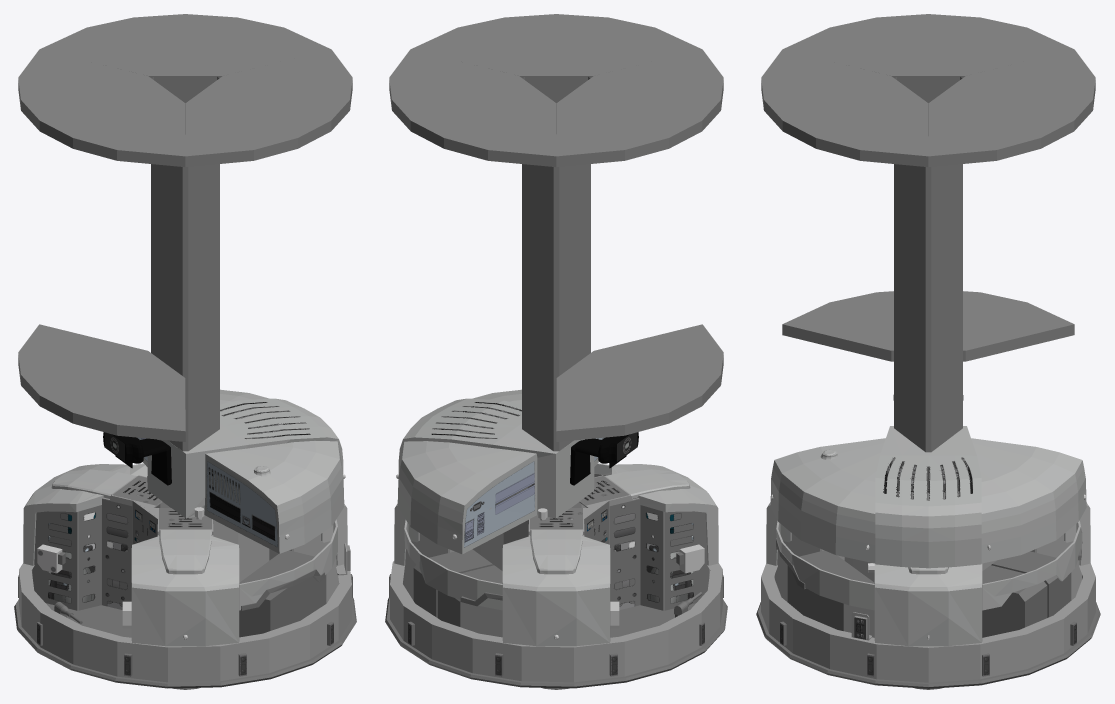
File: robotino3.dae
The picture shows the model from 3 angles, left to right: view 1: azimuth 30°, elevation 25°; view 2: azimuth 150°, elevation 25°; view 3: azimuth 270°, elevation 25°; orthographic projection.
Parts seen in each view (by area): view 1: ShapeIndexedFaceSet_125, ShapeIndexedFaceSet_124, ShapeIndexedFaceSet_122, ShapeIndexedFaceSet_121, ShapeIndexedFaceSet_010, ShapeIndexedFaceSet_123, ShapeIndexedFaceSet_054, ShapeIndexedFaceSet_002, ShapeIndexedFaceSet, ShapeIndexedFaceSet_008, ShapeIndexedFaceSet_014, ShapeIndexedFaceSet_104 (+17 smaller); view 2: ShapeIndexedFaceSet_125, ShapeIndexedFaceSet_124, ShapeIndexedFaceSet_121, ShapeIndexedFaceSet_123, ShapeIndexedFaceSet_010, ShapeIndexedFaceSet_122, ShapeIndexedFaceSet_049, ShapeIndexedFaceSet_002, ShapeIndexedFaceSet, ShapeIndexedFaceSet_009, ShapeIndexedFaceSet_104, ShapeIndexedFaceSet_001 (+18 smaller); view 3: ShapeIndexedFaceSet_002, ShapeIndexedFaceSet_125, ShapeIndexedFaceSet_123, ShapeIndexedFaceSet_122, ShapeIndexedFaceSet_010, ShapeIndexedFaceSet_121, ShapeIndexedFaceSet_124, ShapeIndexedFaceSet_046, ShapeIndexedFaceSet, ShapeIndexedFaceSet_001, ShapeIndexedFaceSet_014, ShapeIndexedFaceSet_015 (+8 smaller).
Boxes of the visible parts, left/top/right/bottom form: ShapeIndexedFaceSet_125: left=151, top=76, right=219, bottom=451; ShapeIndexedFaceSet_124: left=18, top=324, right=185, bottom=441; ShapeIndexedFaceSet_122: left=185, top=49, right=352, bottom=167; ShapeIndexedFaceSet_121: left=18, top=49, right=185, bottom=166; ShapeIndexedFaceSet_010: left=19, top=563, right=351, bottom=682; ShapeIndexedFaceSet_123: left=40, top=14, right=330, bottom=78; ShapeIndexedFaceSet_054: left=131, top=536, right=239, bottom=646; ShapeIndexedFaceSet_002: left=143, top=389, right=344, bottom=553; ShapeIndexedFaceSet: left=147, top=398, right=343, bottom=518; ShapeIndexedFaceSet_008: left=204, top=454, right=279, bottom=553; ShapeIndexedFaceSet_014: left=239, top=550, right=326, bottom=637; ShapeIndexedFaceSet_104: left=14, top=598, right=356, bottom=688; ShapeIndexedFaceSet_125: left=522, top=76, right=590, bottom=451; ShapeIndexedFaceSet_124: left=556, top=324, right=723, bottom=441; ShapeIndexedFaceSet_121: left=556, top=49, right=723, bottom=167; ShapeIndexedFaceSet_123: left=389, top=49, right=556, bottom=166; ShapeIndexedFaceSet_010: left=390, top=561, right=722, bottom=682; ShapeIndexedFaceSet_122: left=411, top=14, right=701, bottom=78; ShapeIndexedFaceSet_049: left=502, top=536, right=610, bottom=646; ShapeIndexedFaceSet_002: left=397, top=389, right=537, bottom=554; ShapeIndexedFaceSet: left=398, top=398, right=594, bottom=518; ShapeIndexedFaceSet_009: left=462, top=454, right=537, bottom=552; ShapeIndexedFaceSet_104: left=385, top=598, right=727, bottom=688; ShapeIndexedFaceSet_001: left=414, top=398, right=521, bottom=444; ShapeIndexedFaceSet_002: left=770, top=438, right=1086, bottom=563; ShapeIndexedFaceSet_125: left=894, top=76, right=962, bottom=452; ShapeIndexedFaceSet_123: left=928, top=49, right=1095, bottom=167; ShapeIndexedFaceSet_122: left=761, top=49, right=928, bottom=166; ShapeIndexedFaceSet_010: left=761, top=563, right=1095, bottom=682; ShapeIndexedFaceSet_121: left=783, top=14, right=1073, bottom=78; ShapeIndexedFaceSet_124: left=782, top=291, right=1074, bottom=361; ShapeIndexedFaceSet_046: left=874, top=564, right=982, bottom=646; ShapeIndexedFaceSet: left=875, top=426, right=981, bottom=568; ShapeIndexedFaceSet_001: left=875, top=455, right=981, bottom=506; ShapeIndexedFaceSet_014: left=787, top=550, right=874, bottom=637; ShapeIndexedFaceSet_015: left=982, top=565, right=1047, bottom=637.
Bounding box in the file's own units: 461 × 461 × 802.
Materials: 129 (25 with a texture image).
